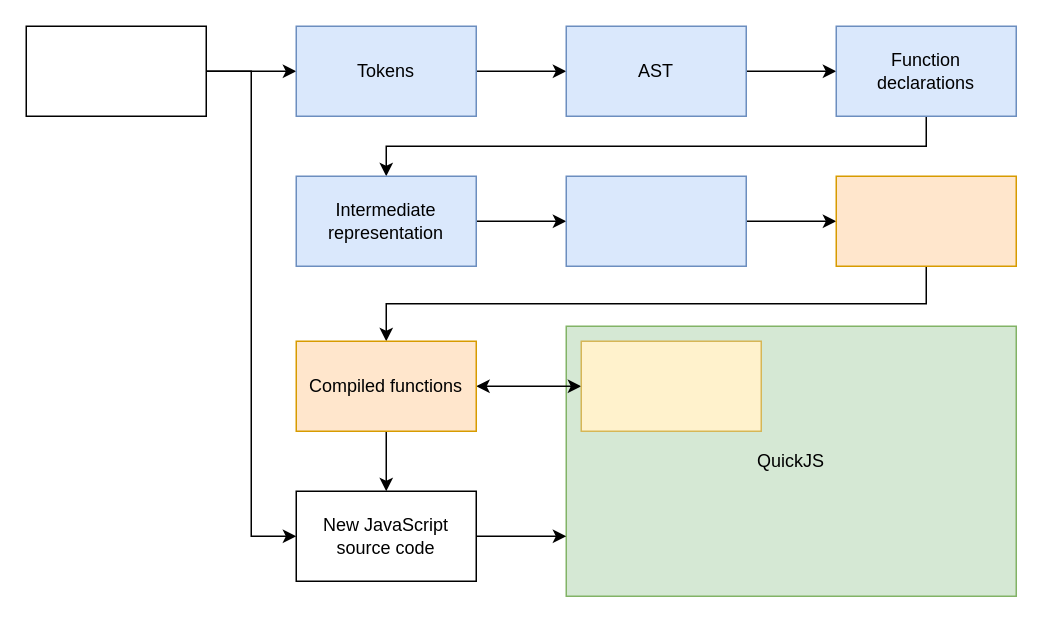
This 1043x623 diagram has some shape labels left out. Here are the shapes that lost their labels. From the top down, the centre of each, then its label:
At [115,70]: "TypeScript input".
At [655,220]: "MIR".
At [925,220]: "Machine code".
At [670,385]: "Stubs".
